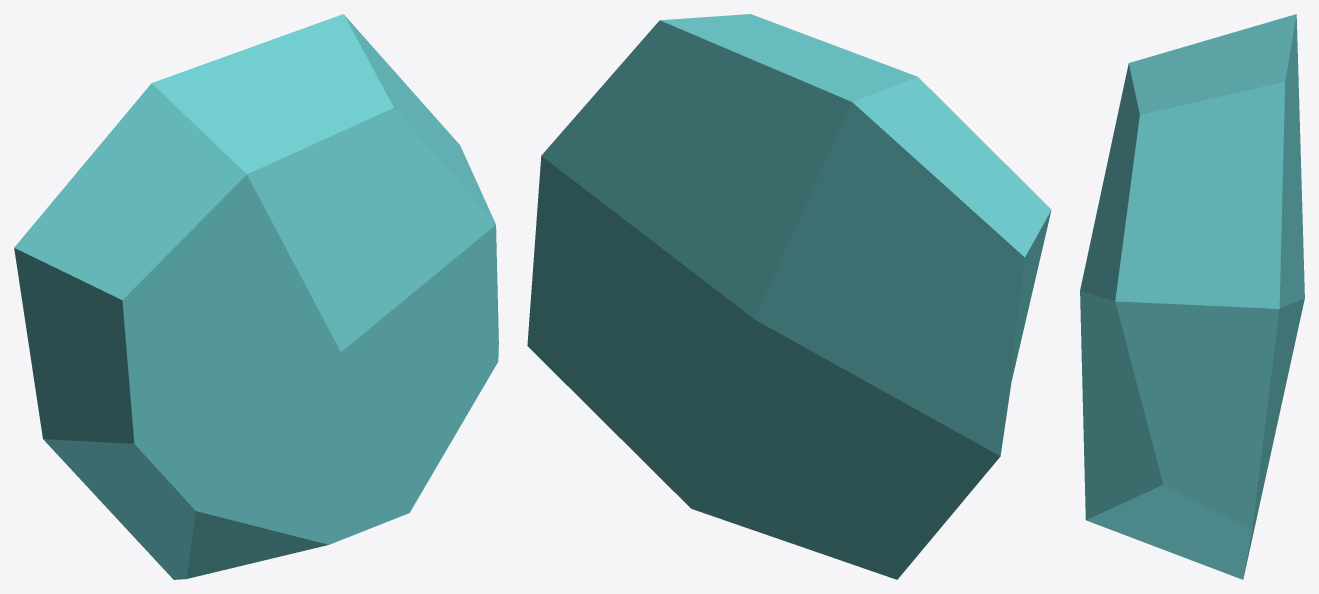
Rendered from MagicStone2.fbx.
3 renders of one model, left to right at view 1: azimuth 30°, elevation 25°; view 2: azimuth 150°, elevation 25°; view 3: azimuth 270°, elevation 25°, orthographic. The views are drawn at different scales.
Parts seen in each view (by area): view 1: cristal2; view 2: cristal2; view 3: cristal2.
Part boxes in pixels (x1=…): cristal2: x1=14, y1=14, x2=498, y2=579; cristal2: x1=527, y1=14, x2=1051, y2=579; cristal2: x1=1080, y1=14, x2=1304, y2=579.
Bounding box in the file's own units: 95.47 × 95.42 × 36.56.
